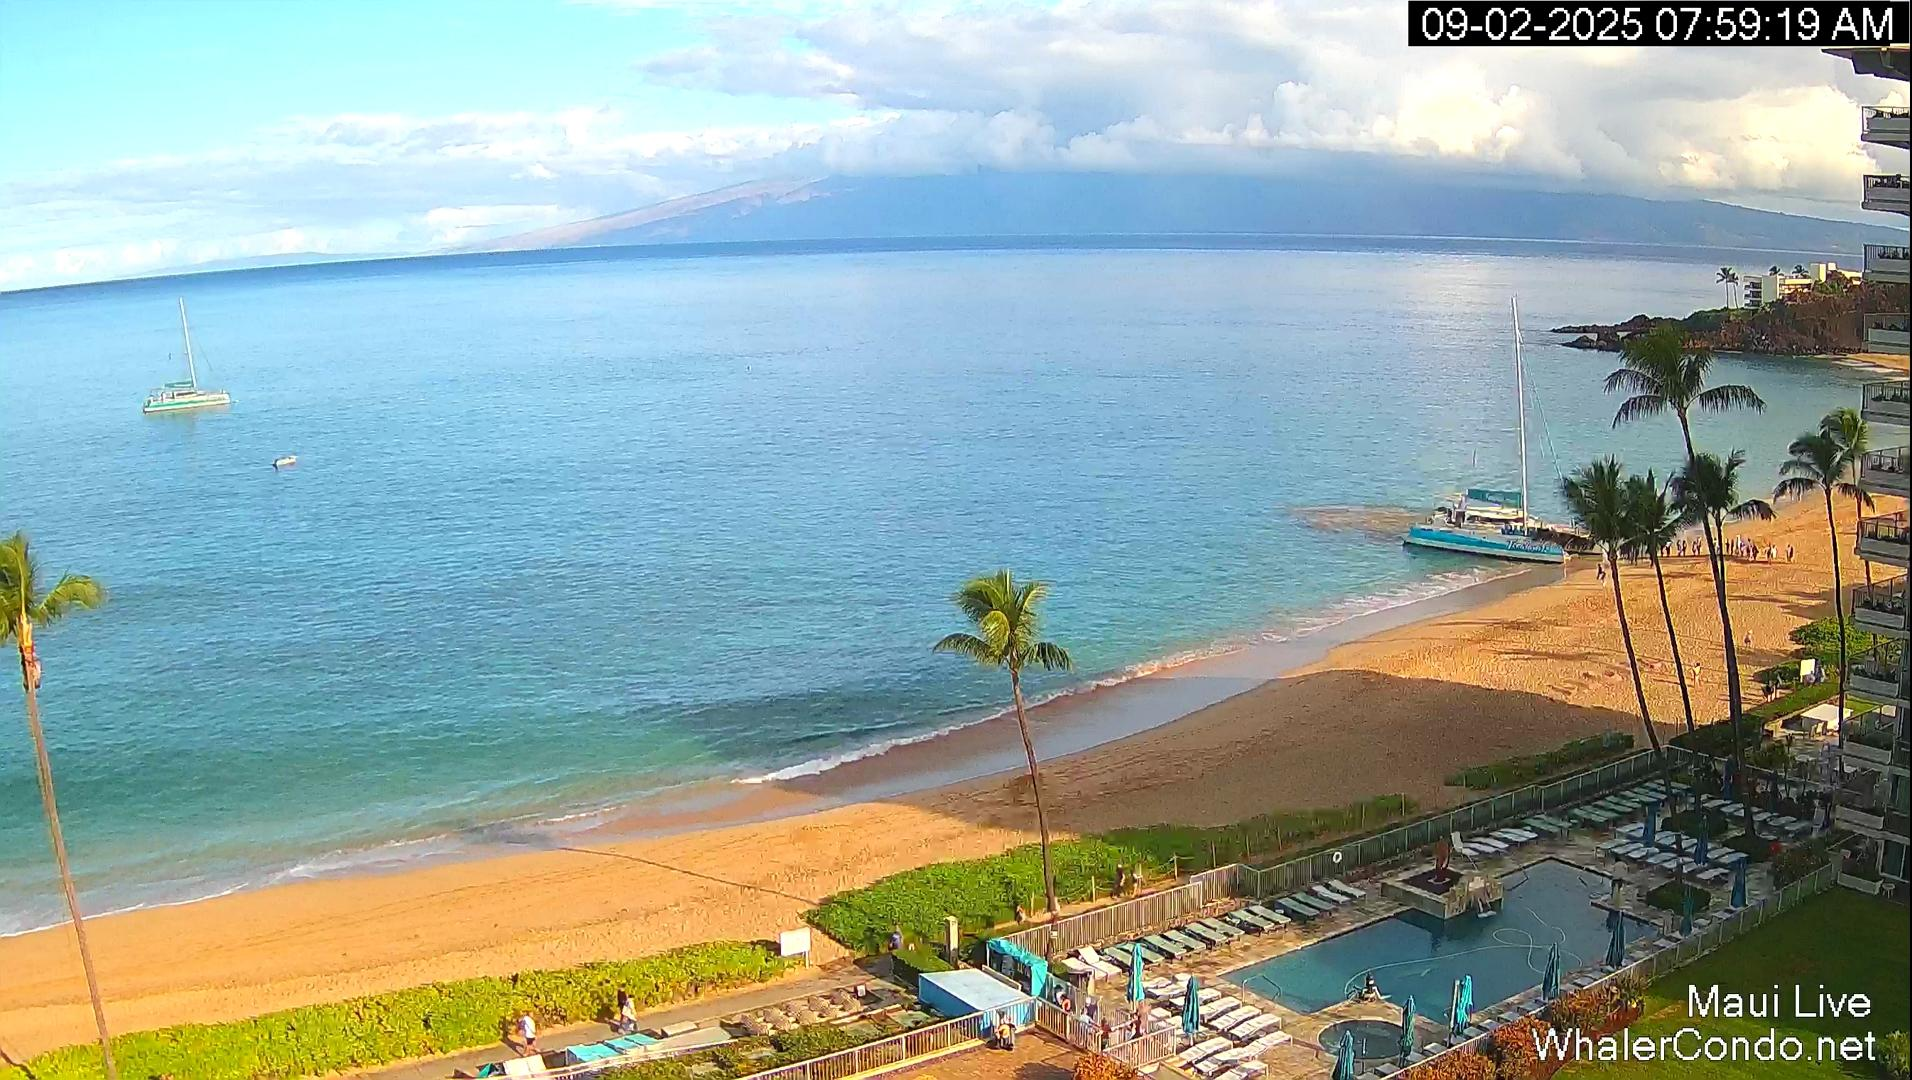boat: (1400, 294, 1592, 564), (142, 296, 232, 414), (273, 453, 299, 473)
person: (520, 1010, 538, 1057), (620, 994, 639, 1033), (1100, 1017, 1114, 1048), (616, 984, 628, 1020), (996, 1021, 1010, 1049), (1014, 899, 1027, 928), (1005, 1017, 1017, 1048), (1116, 865, 1126, 896), (1130, 868, 1140, 898), (891, 930, 901, 956), (1692, 662, 1702, 687), (1060, 994, 1072, 1014), (1593, 562, 1604, 582), (1743, 629, 1753, 650), (1765, 677, 1774, 698), (1786, 543, 1794, 564), (1746, 538, 1753, 560), (1694, 538, 1702, 557), (1765, 544, 1772, 565), (1600, 571, 1608, 589), (1751, 542, 1758, 562), (1808, 668, 1815, 687), (1725, 537, 1732, 555), (1771, 543, 1778, 560), (1692, 540, 1699, 556), (1682, 540, 1688, 557), (1676, 540, 1682, 557), (1697, 537, 1702, 556), (1741, 542, 1746, 558), (1732, 538, 1736, 556)
